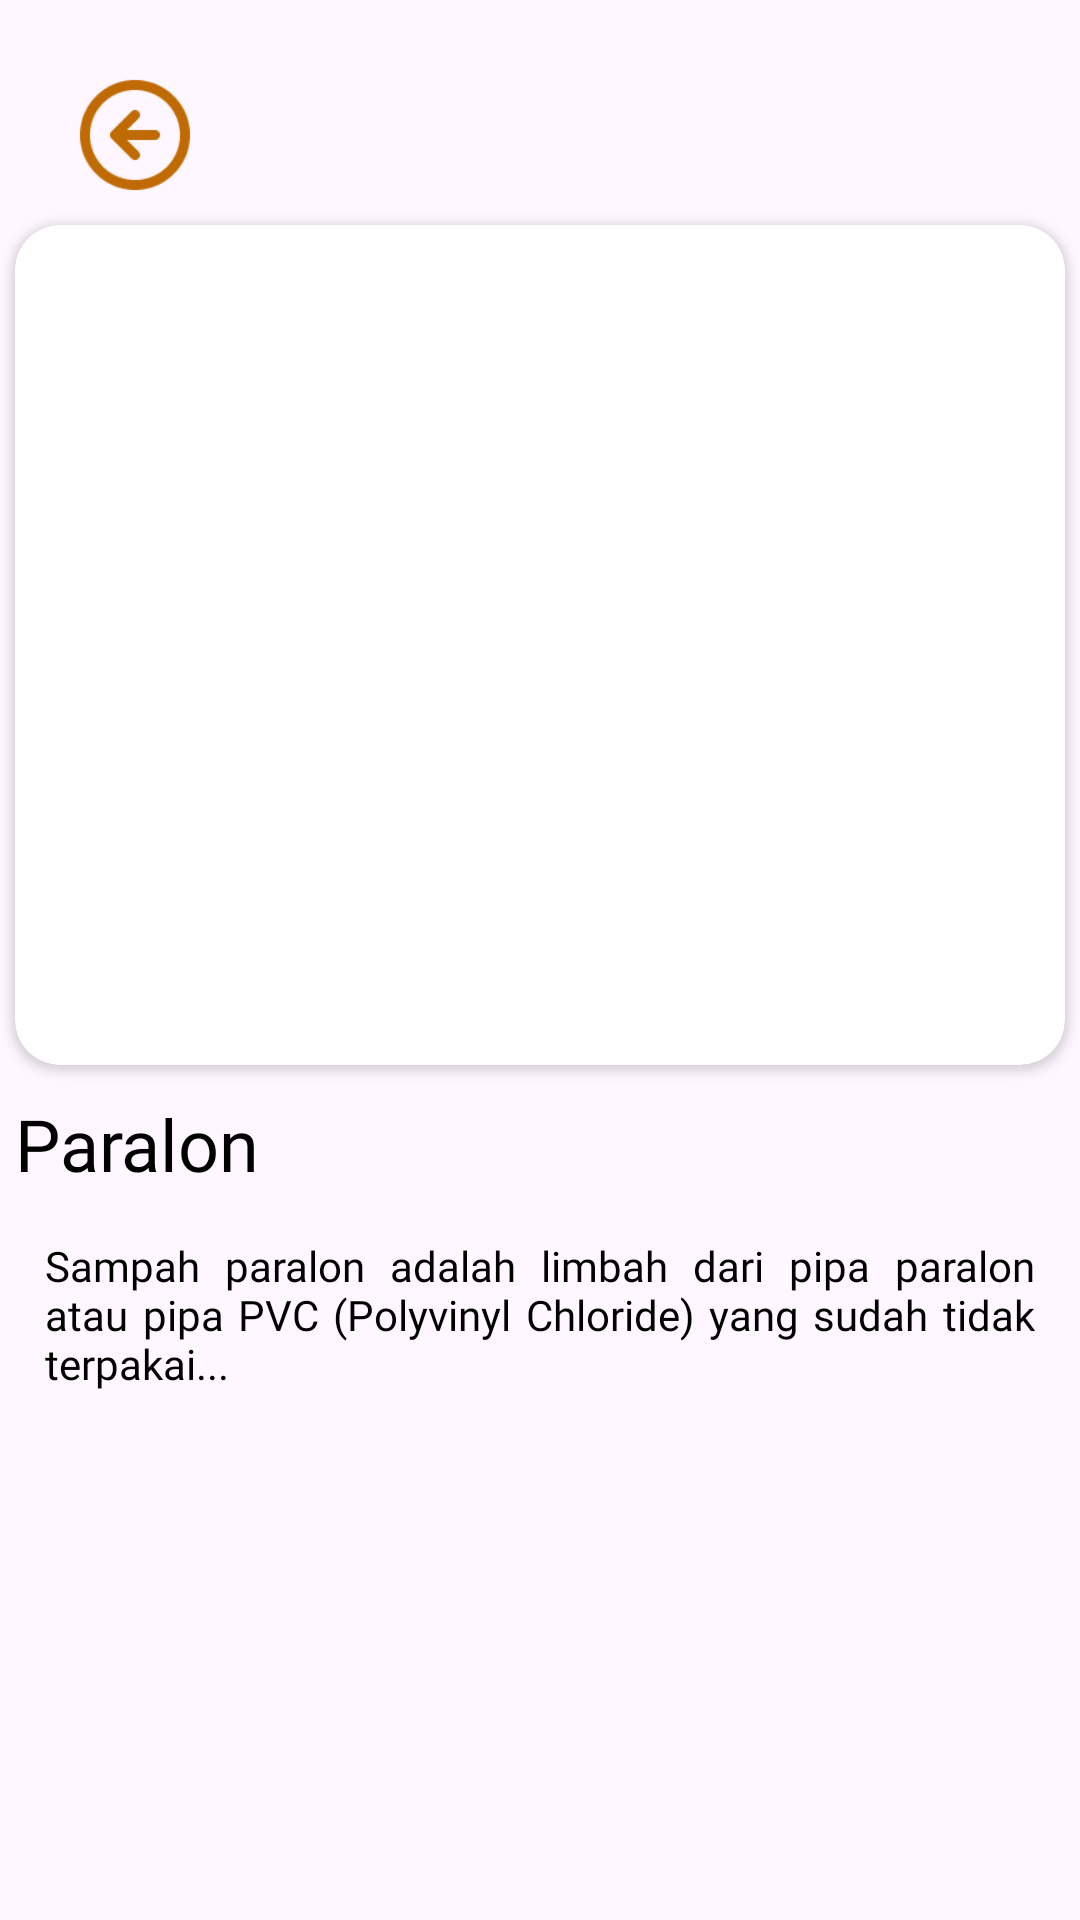

Icons on this 1080px x 1920px Android screen, each with the point to tap as (x,y):
back: (135,135)
